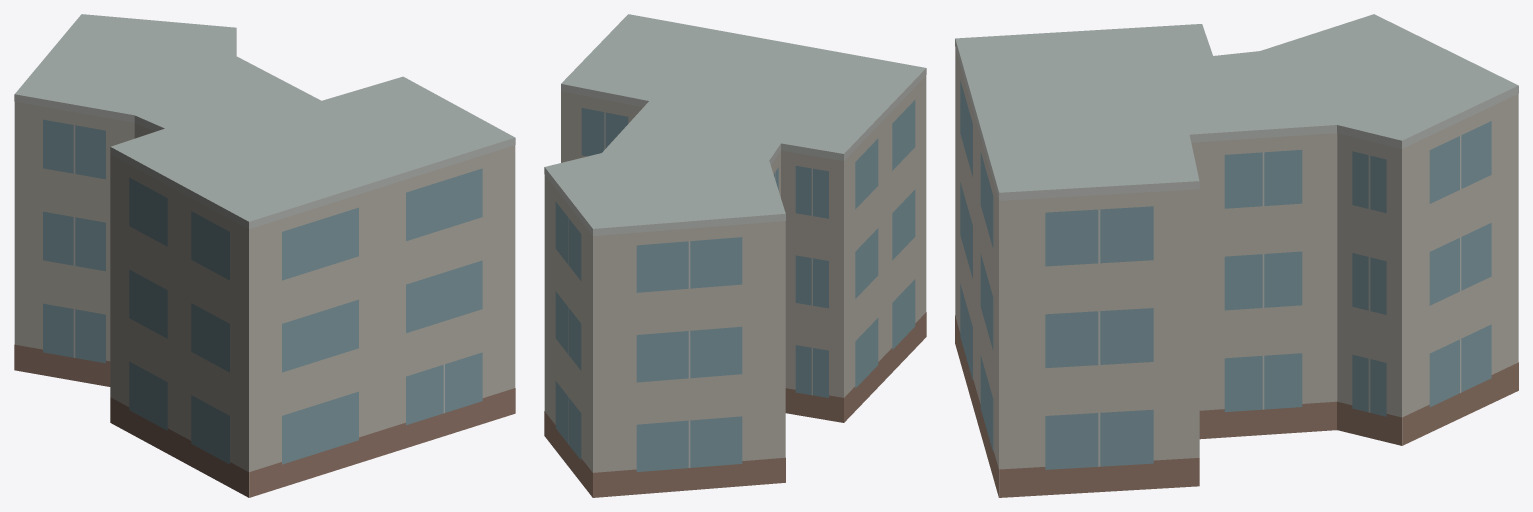
File: survey-upis-32618270.glb
The picture shows the model from 3 angles, left to right: view 1: azimuth 30°, elevation 25°; view 2: azimuth 150°, elevation 25°; view 3: azimuth 270°, elevation 25°; orthographic projection. The views are drawn at different scales.
Visible parts, largest first — view 1: survey-upis-32618270.tmp; view 2: survey-upis-32618270.tmp; view 3: survey-upis-32618270.tmp.
Boxes of the visible parts, <box> form: survey-upis-32618270.tmp: <box>14,14,515,497</box>; survey-upis-32618270.tmp: <box>544,14,926,497</box>; survey-upis-32618270.tmp: <box>955,14,1518,497</box>.
Bounding box in the file's own units: 11.5 × 9.15 × 15.33.
